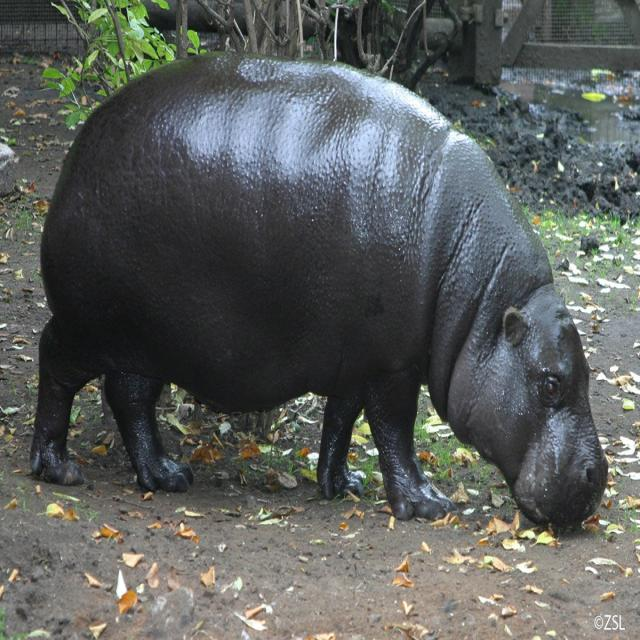Hippopotamus: (33, 56, 608, 537)
